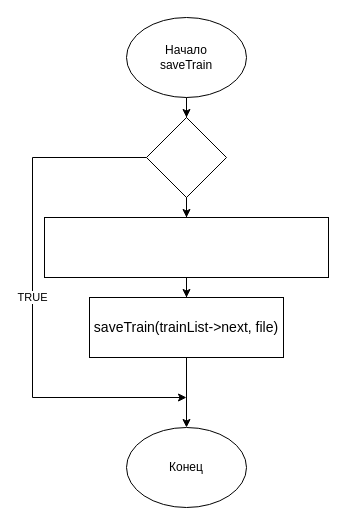
Image size: 346x525. Some labels were removed from this diagram. The box of each missing label's shape, as (x1, y1, x2, y2) in pixels:
!trainList: (146, 116, 226, 198)
fwrite(trainList, sizeof(struct trainList), 1 , file ): (44, 216, 328, 278)
